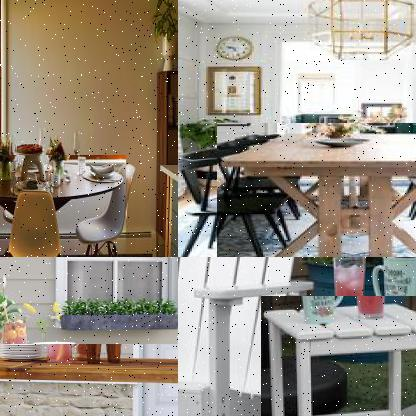table: (216, 123, 415, 256), (260, 296, 415, 415), (0, 155, 127, 256), (0, 344, 177, 415)
